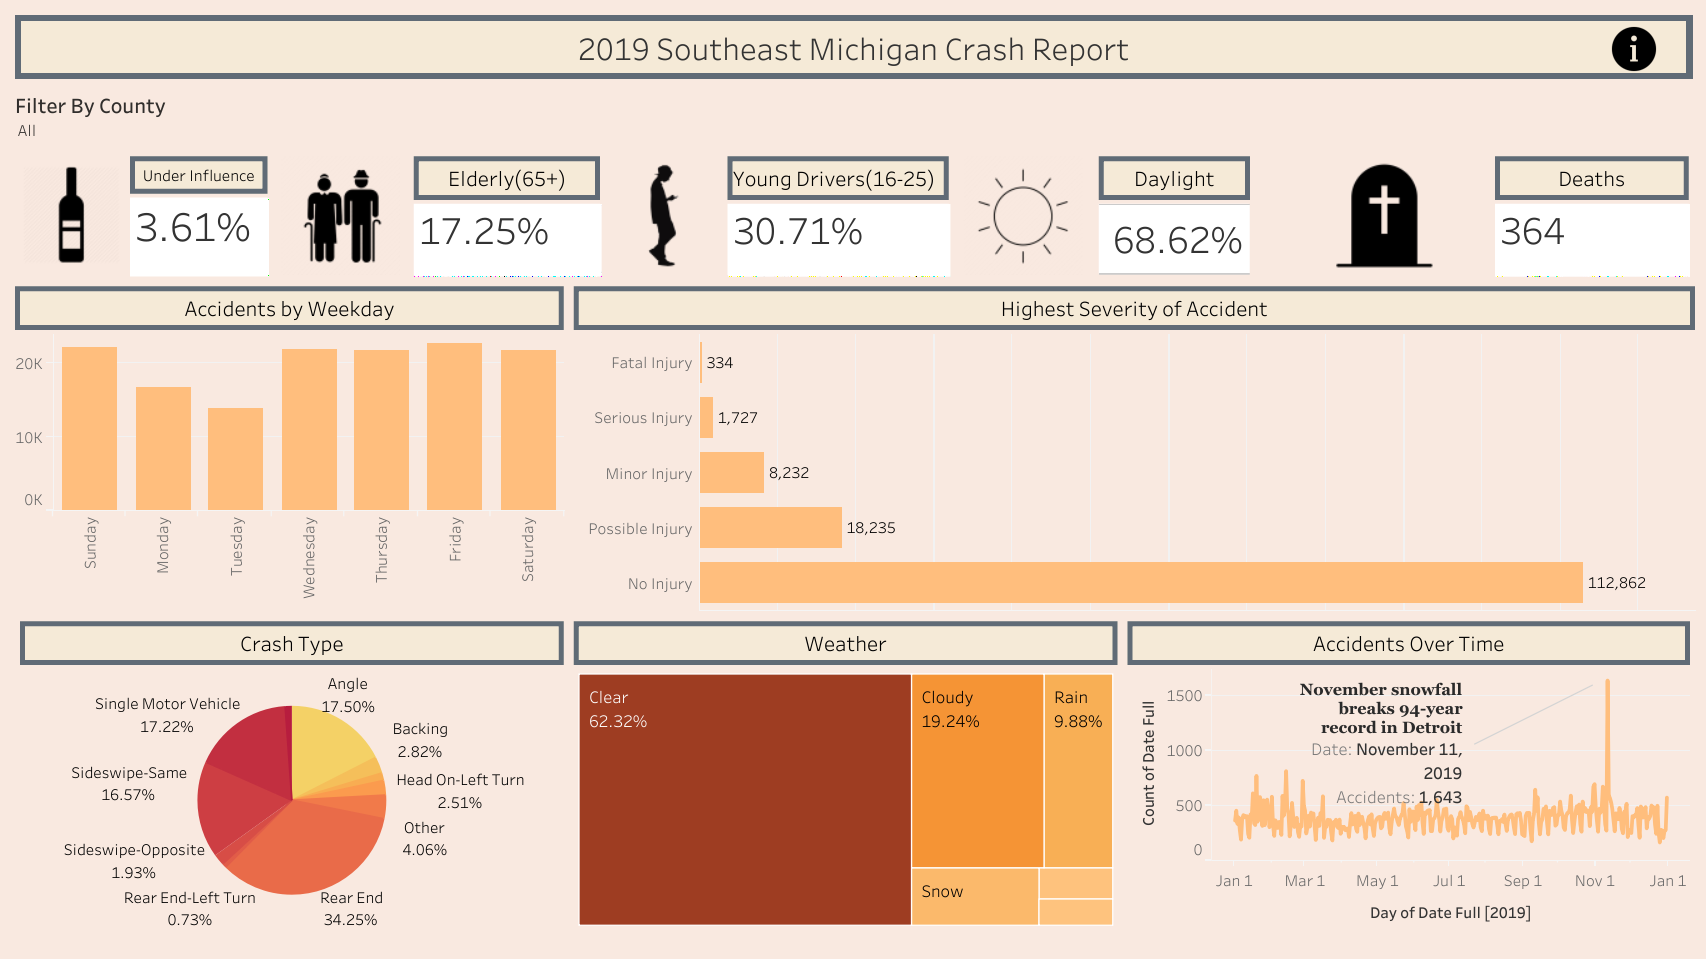

Layout of this report page (visuals, bound fields, positions):
{"tool":"tableau","page":{"name":"Dashboard 1","canvas":[1366,768],"ordinal":0},"visuals":[{"type":"title","box":[8,8,1350,59]},{"type":"filter","title":"WEEK","param":"[federated.10ot8ja1vscbdl1gkvk1b0532gqy].[none:CNTNAME:nk]","box":[8,67,1350,165]},{"type":"image","param":"Image/no-alcohol-icon-png-5.png","box":[14,121,86,103]},{"type":"worksheet","title":"ALC","mark":"Automatic","box":[100,121,118,103]},{"type":"image","param":"Image/elder.png","box":[218,121,109,103]},{"type":"worksheet","title":"OLD","mark":"Automatic","box":[327,121,157,103]},{"type":"image","param":"Image/teen.png","box":[484,121,94,103]},{"type":"worksheet","title":"Young","mark":"Automatic","box":[578,121,185,103]},{"type":"image","param":"Image/clear skies.png","box":[763,121,112,103]},{"type":"worksheet","title":"Daylight","mark":"Automatic","rows":["Lighting"],"box":[875,121,149,103]},{"type":"image","param":"Image/316-3163051_tombstone-rubber-stamp-gravestone-silhouette-transparent-backg","box":[1024,121,168,103]},{"type":"worksheet","title":"Deaths","mark":"Automatic","box":[1192.1,121,163,103]},{"type":"worksheet","title":"WEEK","mark":"Bar","rows":["Weekday"],"cols":["Weekday"],"box":[8,225,447,267]},{"type":"worksheet","title":"Sev","mark":"Automatic","rows":["Severity"],"cols":["Severity"],"box":[455,225,905,267]},{"type":"blank","box":[8,232,1350,528]},{"type":"worksheet","title":"Crash Type","mark":"Pie","box":[12,493,443,256]},{"type":"worksheet","title":"Weather","mark":"Automatic","box":[455,493,443,256]},{"type":"worksheet","title":"Over Time","mark":"Line","rows":["DATE_FULL"],"cols":["DATE_FULL"],"box":[898,493,458,256]}]}

Visuals, with their boxes in screenshot pixels (x1, y1, x2, y2), scaled from the page's 1366x768 canvas onto the 1706x959 screenshot:
title: [10,10,1696,84]
"WEEK" filter: [10,84,1696,290]
image: [17,151,125,280]
"ALC" worksheet: [125,151,272,280]
image: [272,151,408,280]
"OLD" worksheet: [408,151,604,280]
image: [604,151,722,280]
"Young" worksheet: [722,151,953,280]
image: [953,151,1093,280]
"Daylight" worksheet: [1093,151,1279,280]
image: [1279,151,1489,280]
"Deaths" worksheet: [1489,151,1692,280]
"WEEK" worksheet (Bar marks): [10,281,568,614]
"Sev" worksheet: [568,281,1699,614]
blank: [10,290,1696,949]
"Crash Type" worksheet (Pie marks): [15,616,568,935]
"Weather" worksheet: [568,616,1122,935]
"Over Time" worksheet (Line marks): [1122,616,1694,935]
